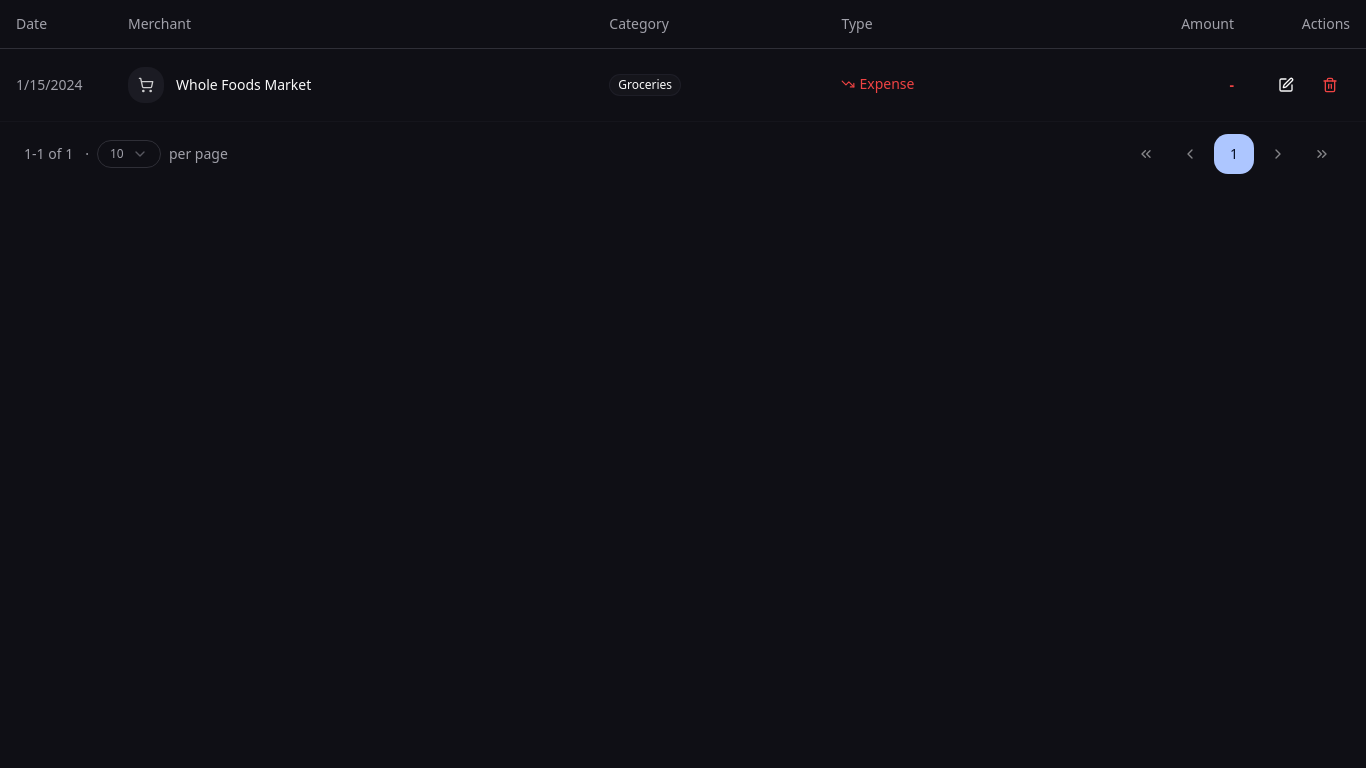
Test: TransactionTable › cancelling the confirmation dialog does not delete
The width and height of the screenshot is (1366, 768).
Click the button named "delete transaction" at x=1330, y=84, box top-left (1310, 64), bottom-right (1350, 104)
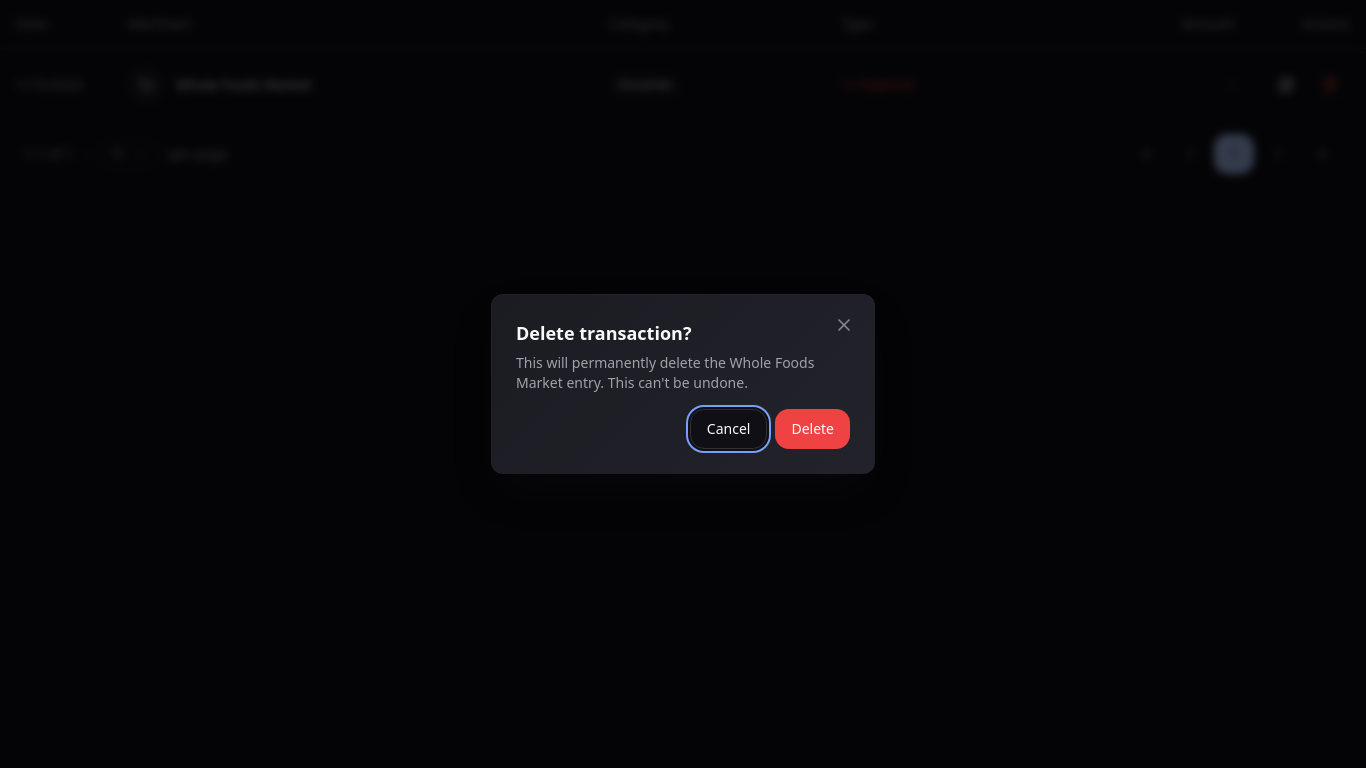
Click the button "Cancel" at x=729, y=429, box top-left (690, 409), bottom-right (767, 449)
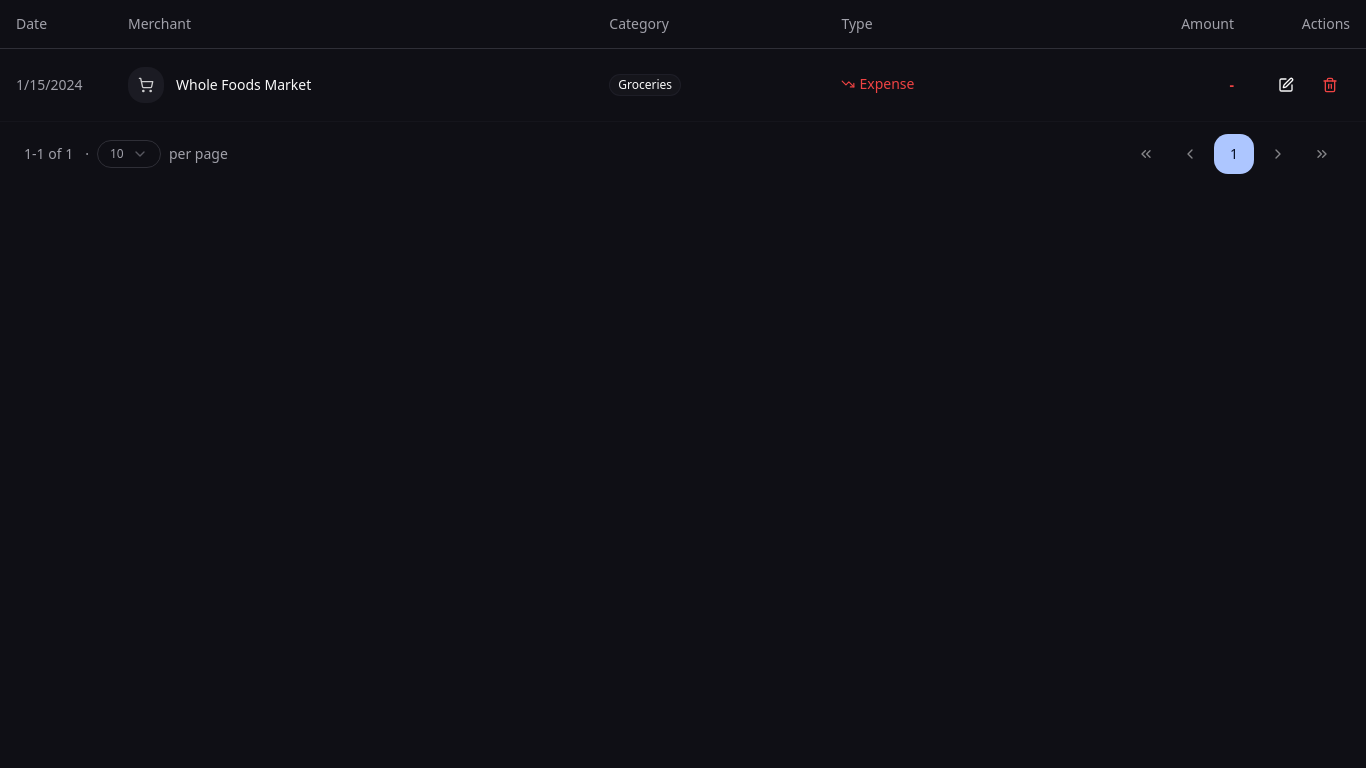
Result: the heading "Delete transaction?" is gone
